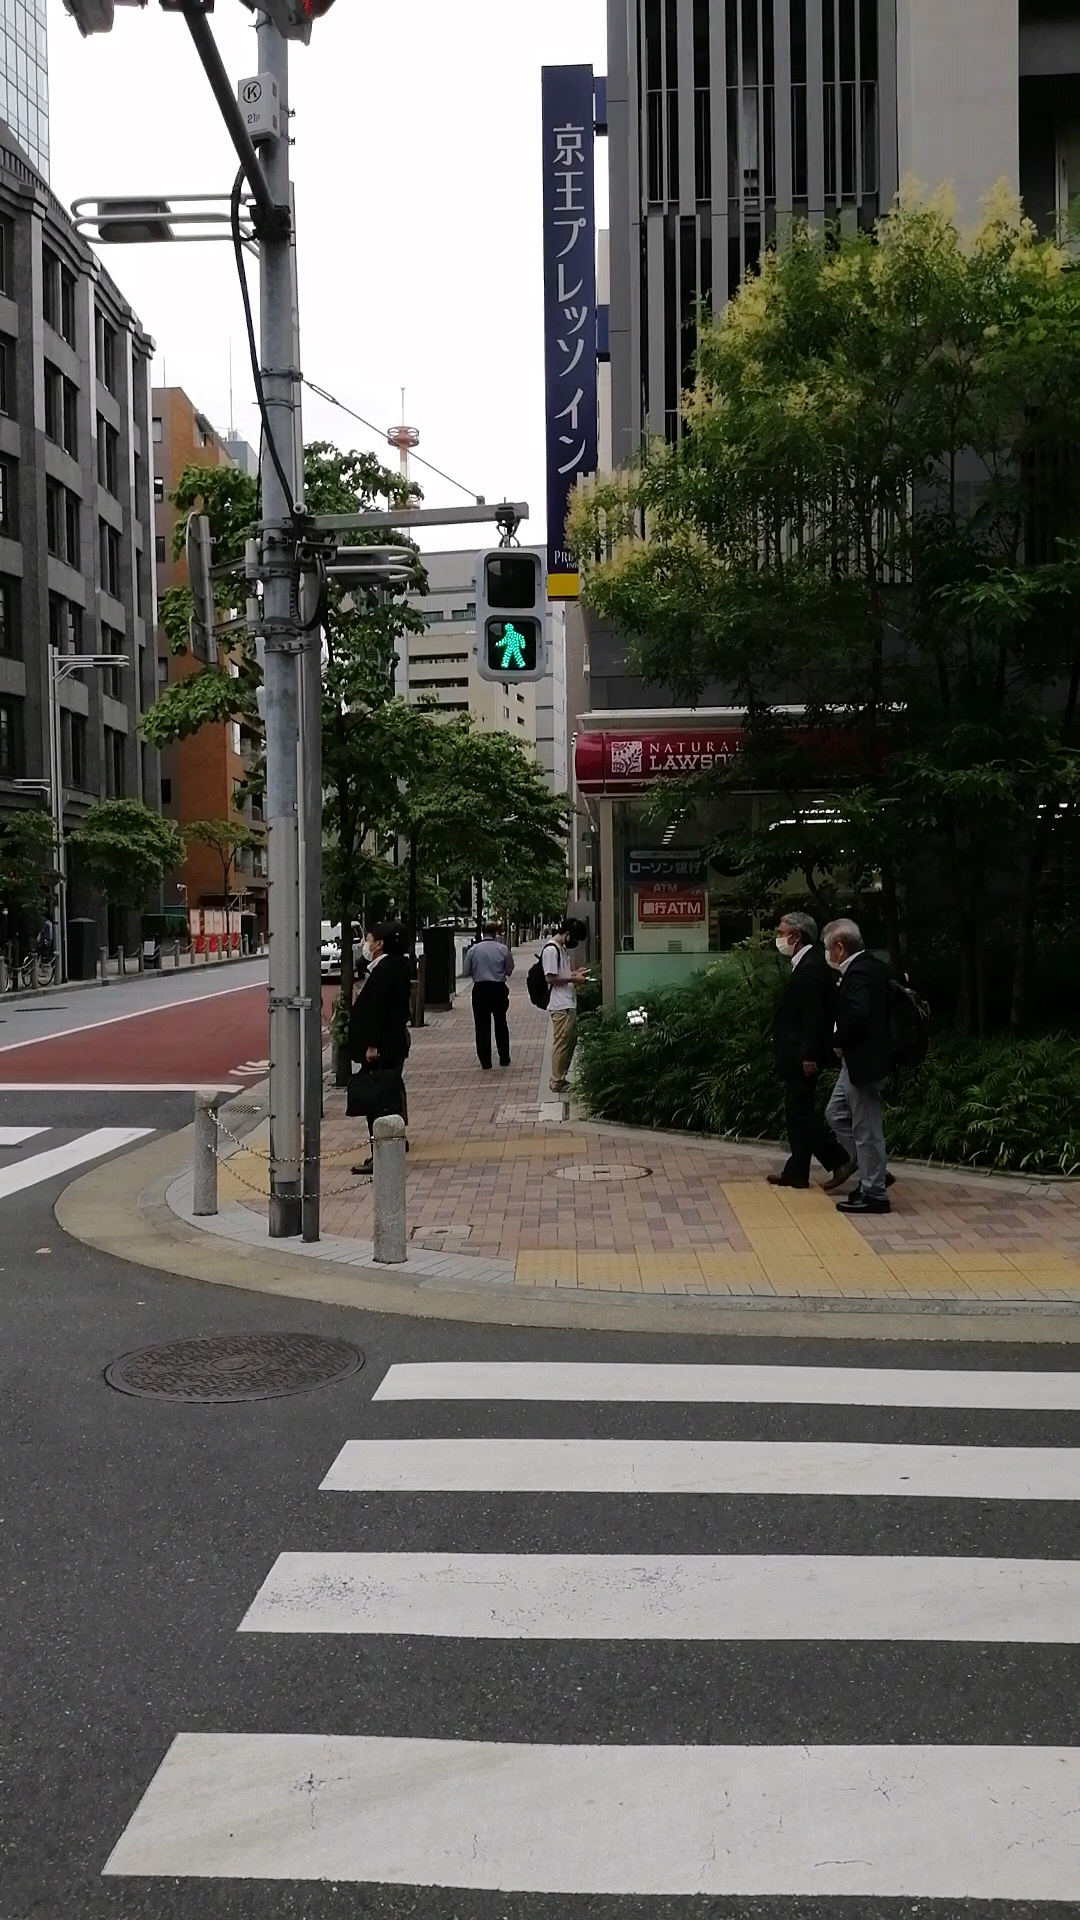green: (480, 549, 545, 682)
